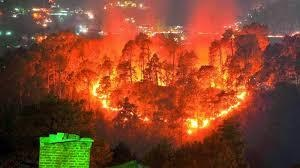fire: (64, 12, 279, 138)
